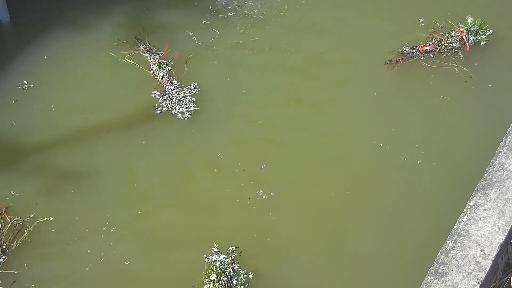twig: (384, 12, 500, 80), (113, 35, 207, 117), (0, 207, 60, 273), (198, 241, 277, 288)
